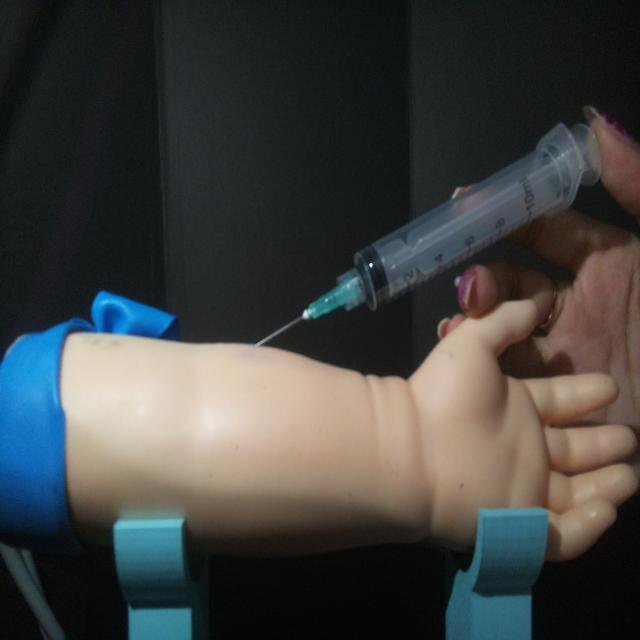28deg: (249, 114, 606, 350)
